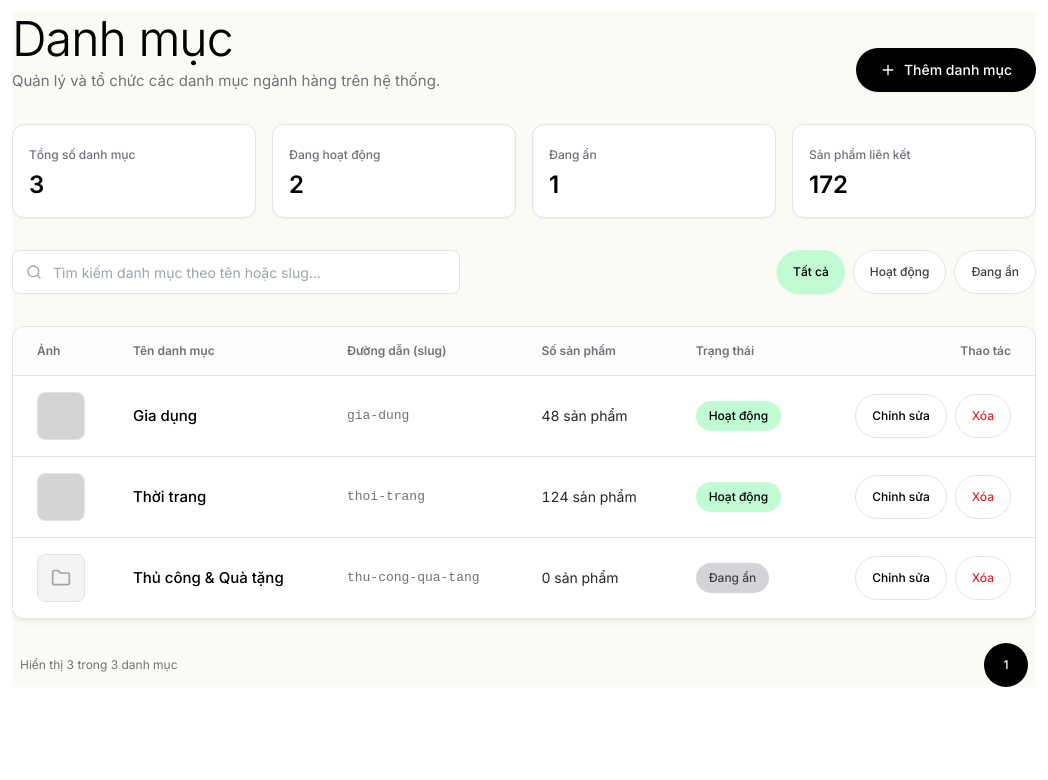
AdminCategoryPage (Stitch Screen 1 & DESIGN.md) › filters categories by search input
# Search by name
Type "thời" into the field labelled "Tìm kiếm danh mục theo tên hoặc slug...".
click(236, 272); type("thời")  # box [12,250,460,294]
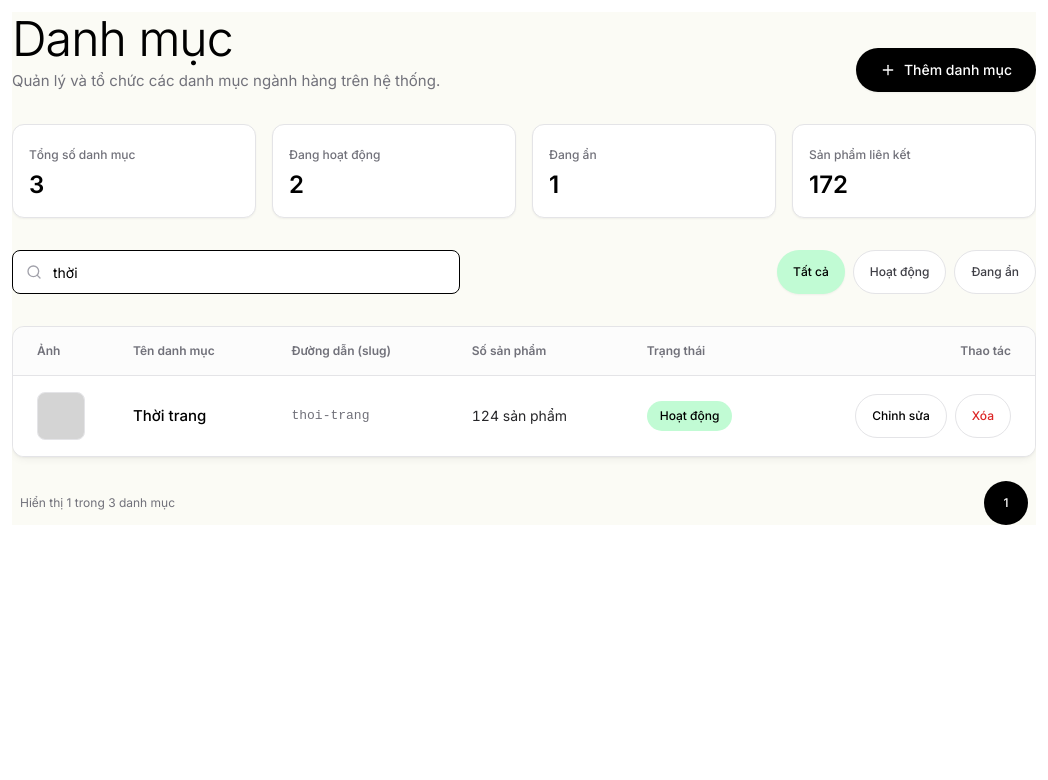
Expected: the text "Thời trang" is shown, [109,375,267,456]
Expected: the text "Gia dụng" is gone
# Clear search
Clear the field named "Tìm kiếm danh mục" at coordinates (236, 272), box [12,250,460,294]
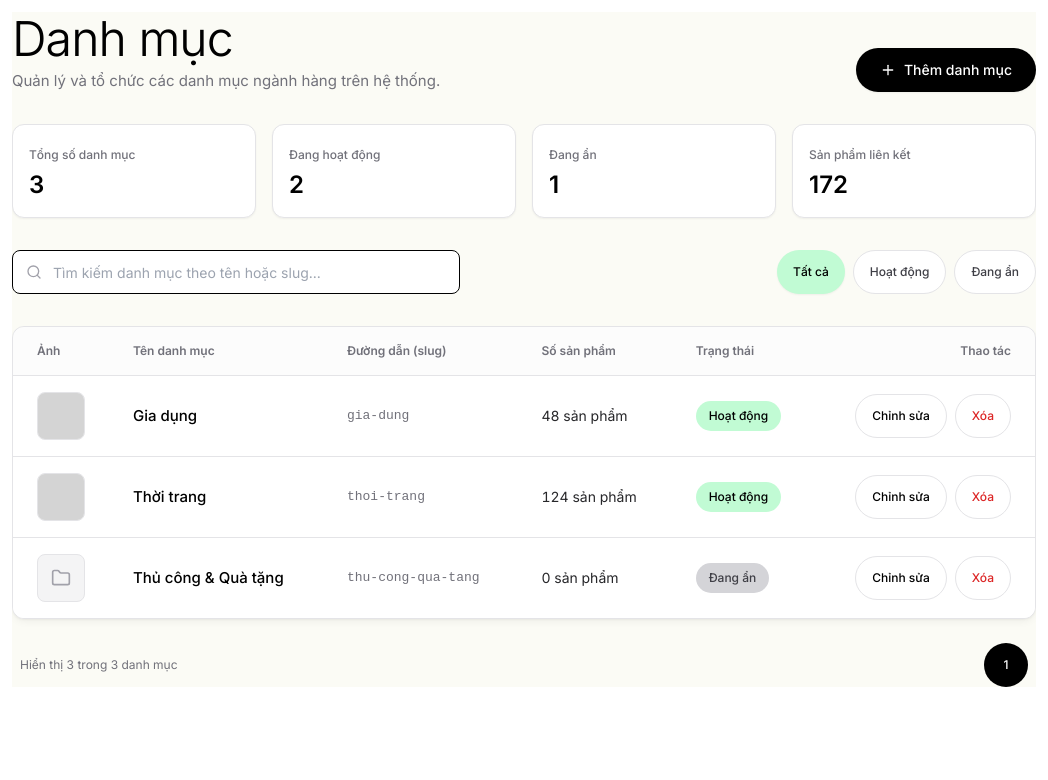
Expected: the text "Gia dụng" is shown, [109,375,323,456]
# Search by slug
Type "thu-cong" into the field labelled "Tìm kiếm danh mục theo tên hoặc slug...".
click(236, 272); type("thu-cong")  # box [12,250,460,294]
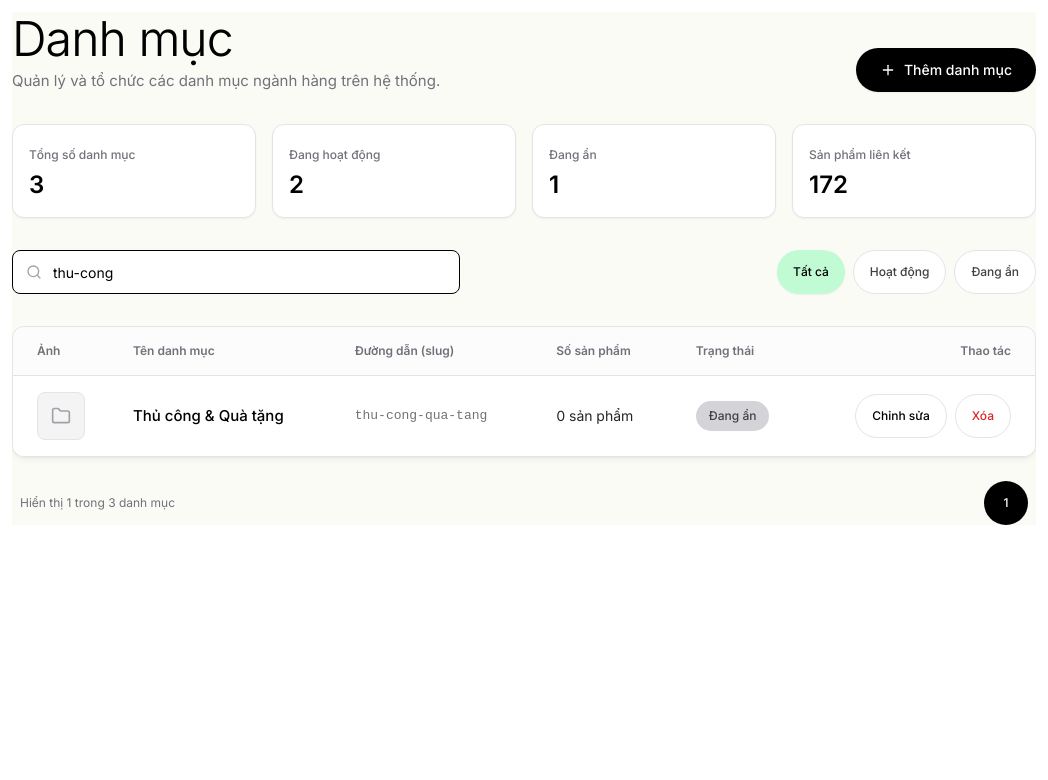
Expected: the text "Thủ công & Quà tặng" is shown, [109,375,331,456]
Expected: the text "Thời trang" is gone
